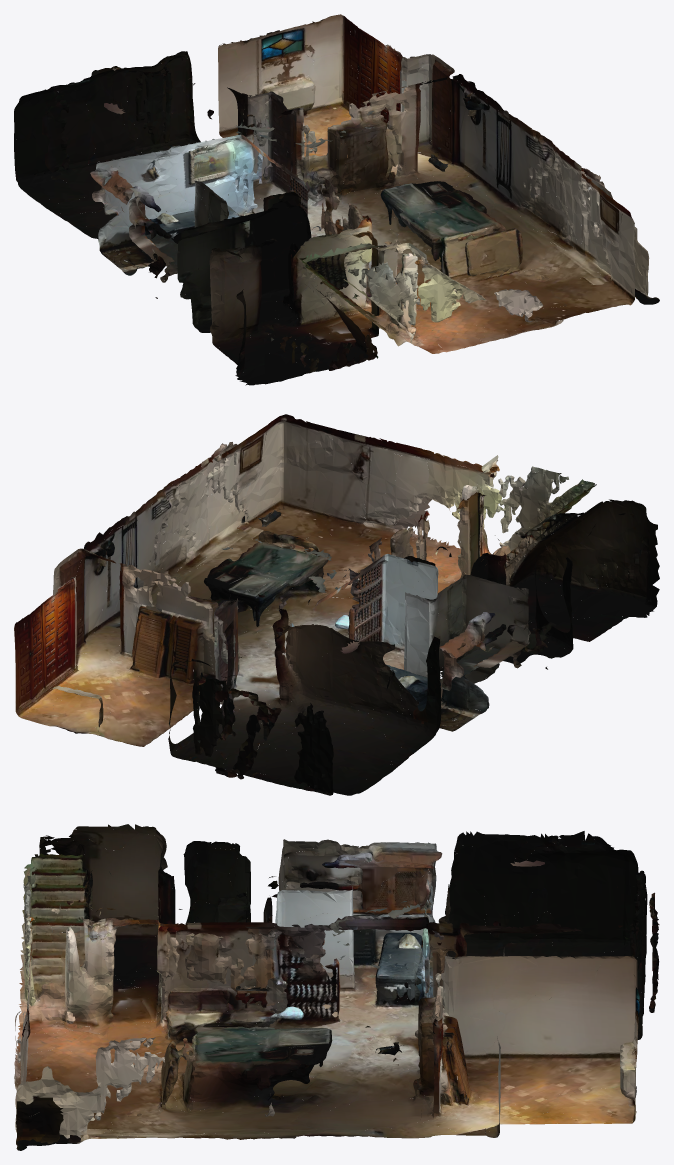
Rendered from esc_sotanos_muros_05.glb.
3 renders of one model, top to bottom at view 1: azimuth 30°, elevation 25°; view 2: azimuth 150°, elevation 25°; view 3: azimuth 270°, elevation 25°, orthographic. The views are drawn at different scales.
Parts seen in each view (by area): view 1: muros_Salon_y_porche_5_GLTF_12, muros_Salon_y_porche_5_GLTF_5, muros_Salon_y_porche_5_GLTF_11, muros_Salon_y_porche_5_GLTF_3, muros_Salon_y_porche_5_GLTF_7, muros_Salon_y_porche_5_GLTF_1, muros_Salon_y_porche_5_GLTF_13, muros_Salon_y_porche_5_GLTF_4, muros_Salon_y_porche_5_GLTF_8, muros_Salon_y_porche_5_GLTF_2, muros_Salon_y_porche_5_GLTF, muros_Salon_y_porche_5_GLTF_10 (+2 smaller); view 2: muros_Salon_y_porche_5_GLTF_12, muros_Salon_y_porche_5_GLTF_3, muros_Salon_y_porche_5_GLTF_9, muros_Salon_y_porche_5_GLTF_2, muros_Salon_y_porche_5_GLTF_5, muros_Salon_y_porche_5_GLTF_4, muros_Salon_y_porche_5_GLTF_7, muros_Salon_y_porche_5_GLTF_11, muros_Salon_y_porche_5_GLTF_13, muros_Salon_y_porche_5_GLTF_8, muros_Salon_y_porche_5_GLTF_1, muros_Salon_y_porche_5_GLTF_6 (+2 smaller); view 3: muros_Salon_y_porche_5_GLTF_1, muros_Salon_y_porche_5_GLTF_11, muros_Salon_y_porche_5_GLTF_3, muros_Salon_y_porche_5_GLTF_5, muros_Salon_y_porche_5_GLTF_12, muros_Salon_y_porche_5_GLTF_9, muros_Salon_y_porche_5_GLTF_7, muros_Salon_y_porche_5_GLTF_10, muros_Salon_y_porche_5_GLTF_8, muros_Salon_y_porche_5_GLTF_2, muros_Salon_y_porche_5_GLTF_13, muros_Salon_y_porche_5_GLTF_4 (+2 smaller).
Boxes of the visible parts, x1=… form: muros_Salon_y_porche_5_GLTF_12: x1=16, y1=55, x2=619, y2=353; muros_Salon_y_porche_5_GLTF_5: x1=129, y1=51, x2=609, y2=352; muros_Salon_y_porche_5_GLTF_11: x1=47, y1=69, x2=635, y2=374; muros_Salon_y_porche_5_GLTF_3: x1=14, y1=28, x2=646, y2=355; muros_Salon_y_porche_5_GLTF_7: x1=54, y1=68, x2=601, y2=372; muros_Salon_y_porche_5_GLTF_1: x1=42, y1=26, x2=635, y2=354; muros_Salon_y_porche_5_GLTF_13: x1=47, y1=55, x2=659, y2=373; muros_Salon_y_porche_5_GLTF_4: x1=126, y1=14, x2=658, y2=338; muros_Salon_y_porche_5_GLTF_8: x1=49, y1=15, x2=540, y2=371; muros_Salon_y_porche_5_GLTF_2: x1=61, y1=51, x2=604, y2=371; muros_Salon_y_porche_5_GLTF: x1=60, y1=37, x2=636, y2=370; muros_Salon_y_porche_5_GLTF_10: x1=72, y1=68, x2=520, y2=348; muros_Salon_y_porche_5_GLTF_12: x1=38, y1=424, x2=573, y2=795; muros_Salon_y_porche_5_GLTF_3: x1=30, y1=439, x2=606, y2=794; muros_Salon_y_porche_5_GLTF_9: x1=75, y1=430, x2=571, y2=794; muros_Salon_y_porche_5_GLTF_2: x1=25, y1=443, x2=648, y2=753; muros_Salon_y_porche_5_GLTF_5: x1=53, y1=423, x2=629, y2=682; muros_Salon_y_porche_5_GLTF_4: x1=15, y1=463, x2=587, y2=710; muros_Salon_y_porche_5_GLTF_7: x1=98, y1=474, x2=628, y2=767; muros_Salon_y_porche_5_GLTF_11: x1=51, y1=414, x2=642, y2=780; muros_Salon_y_porche_5_GLTF_13: x1=102, y1=453, x2=614, y2=753; muros_Salon_y_porche_5_GLTF_8: x1=14, y1=489, x2=598, y2=787; muros_Salon_y_porche_5_GLTF_1: x1=53, y1=466, x2=642, y2=746; muros_Salon_y_porche_5_GLTF_6: x1=15, y1=452, x2=659, y2=722; muros_Salon_y_porche_5_GLTF_1: x1=16, y1=830, x2=640, y2=1143; muros_Salon_y_porche_5_GLTF_11: x1=20, y1=830, x2=645, y2=1139; muros_Salon_y_porche_5_GLTF_3: x1=22, y1=834, x2=640, y2=1138; muros_Salon_y_porche_5_GLTF_5: x1=15, y1=873, x2=629, y2=1138; muros_Salon_y_porche_5_GLTF_12: x1=16, y1=839, x2=647, y2=1139; muros_Salon_y_porche_5_GLTF_9: x1=23, y1=871, x2=645, y2=1135; muros_Salon_y_porche_5_GLTF_7: x1=14, y1=863, x2=644, y2=1139; muros_Salon_y_porche_5_GLTF_10: x1=23, y1=826, x2=636, y2=1112; muros_Salon_y_porche_5_GLTF_8: x1=15, y1=844, x2=636, y2=1132; muros_Salon_y_porche_5_GLTF_2: x1=26, y1=835, x2=642, y2=1123; muros_Salon_y_porche_5_GLTF_13: x1=14, y1=824, x2=634, y2=1150; muros_Salon_y_porche_5_GLTF_4: x1=16, y1=863, x2=635, y2=1149.
Bounding box in the file's own units: 8.81 × 2.45 × 11.05.
Materials: 14 (14 with a texture image).
